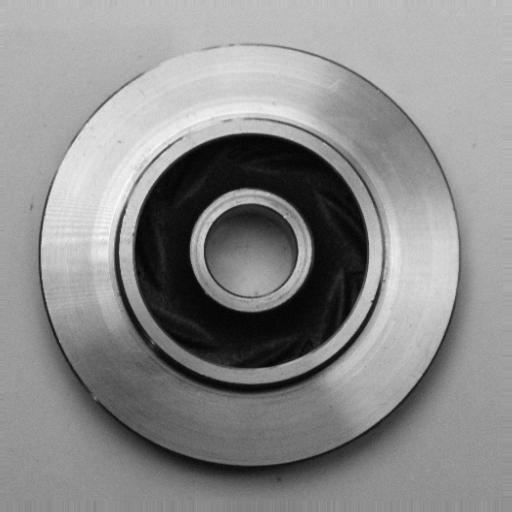scratch: (175, 110, 257, 147)
unpolished_casting: (34, 40, 463, 474)
